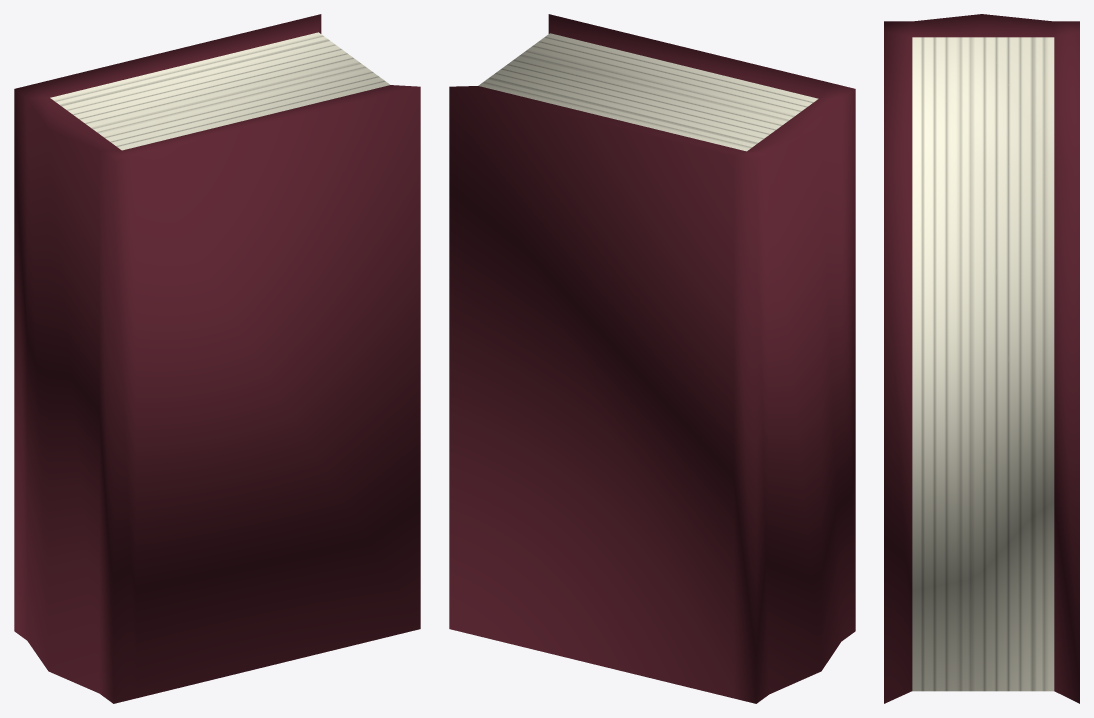
The model's file is red_book_generic_m.glb.
3 views of the same model, side by side, from view 1: azimuth 30°, elevation 25°; view 2: azimuth 150°, elevation 25°; view 3: azimuth 270°, elevation 25° (orthographic).
Parts seen in each view (by area): view 1: Red_Book_M-col; view 2: Red_Book_M-col; view 3: Red_Book_M-col.
Boxes of the visible parts, <box> form: Red_Book_M-col: <box>14,14,420,703</box>; Red_Book_M-col: <box>449,14,855,703</box>; Red_Book_M-col: <box>884,14,1079,703</box>.
Bounding box in the file's own units: 0.3134 × 0.5035 × 0.1671.
Materials: 1 (1 with a texture image).
